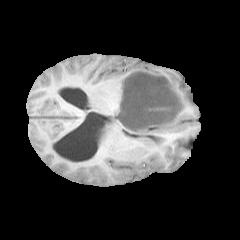glioma: (111, 66, 187, 137)
